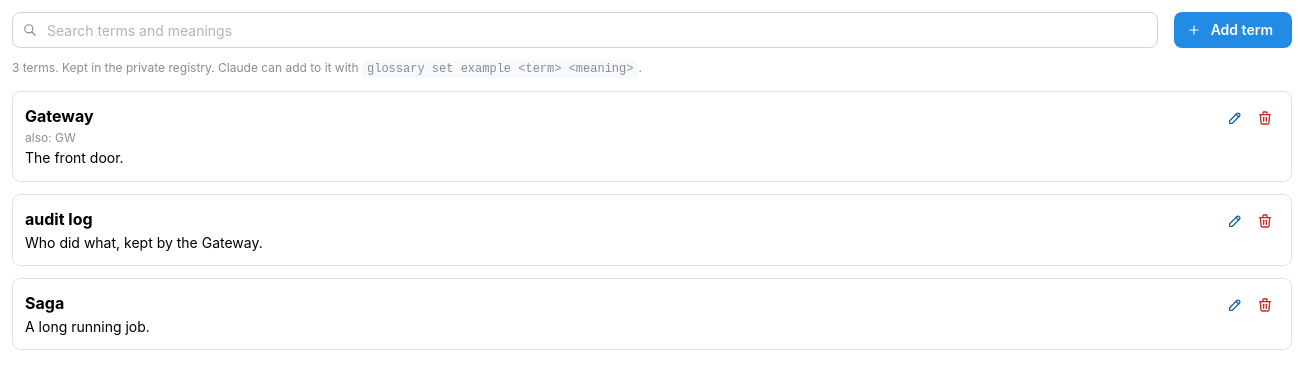
Test case: GlossaryTab › lists terms and filters them as you type
Expected: the heading "Saga" is shown, [25,293,64,313]
Type "sAgA" into the field named "Search the glossary" at (585, 30), box [12,12,1158,48]
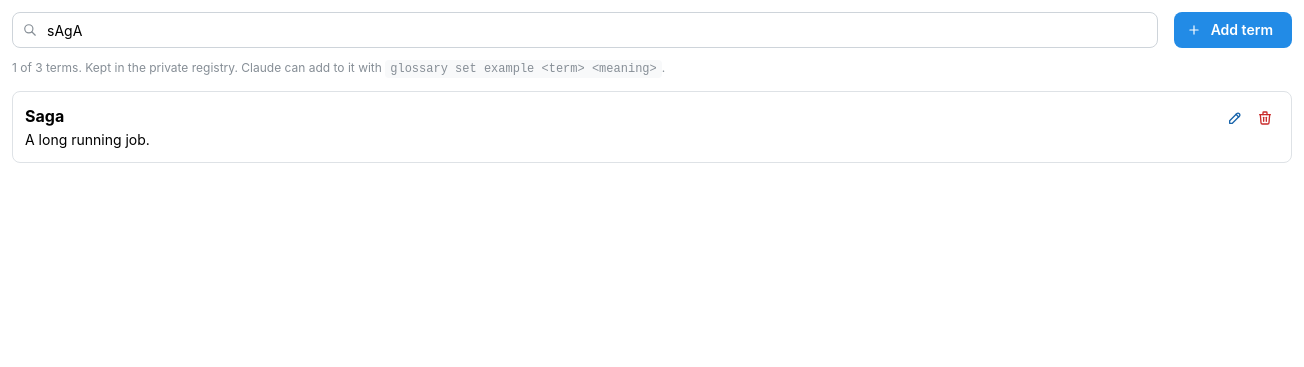
Expected: the heading "Saga" is shown, [25,106,64,126]
Expected: the heading "Gateway" is gone
Replace the text in the field named "Search the glossary" with "nothing" at (585, 30), box [12,12,1158,48]
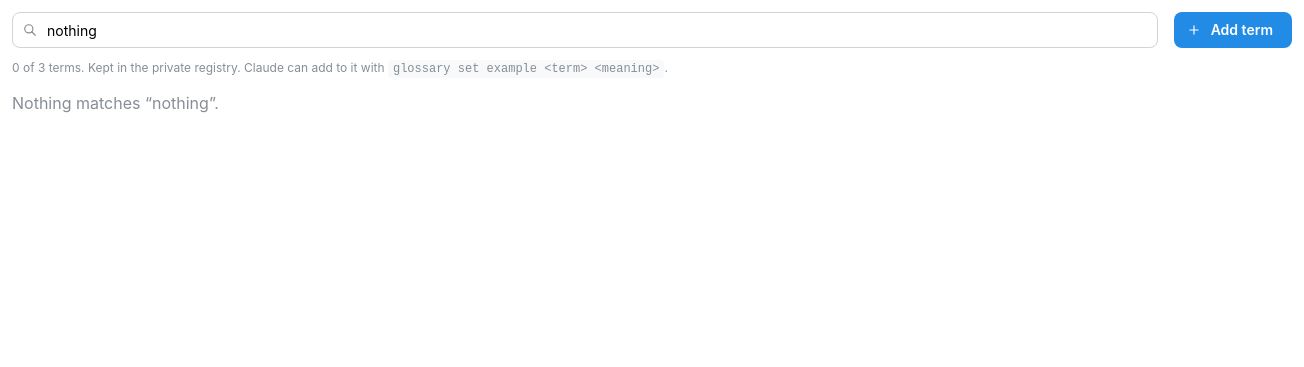
Expected: the text "Nothing matches “nothing”." is shown, [12,93,219,113]
